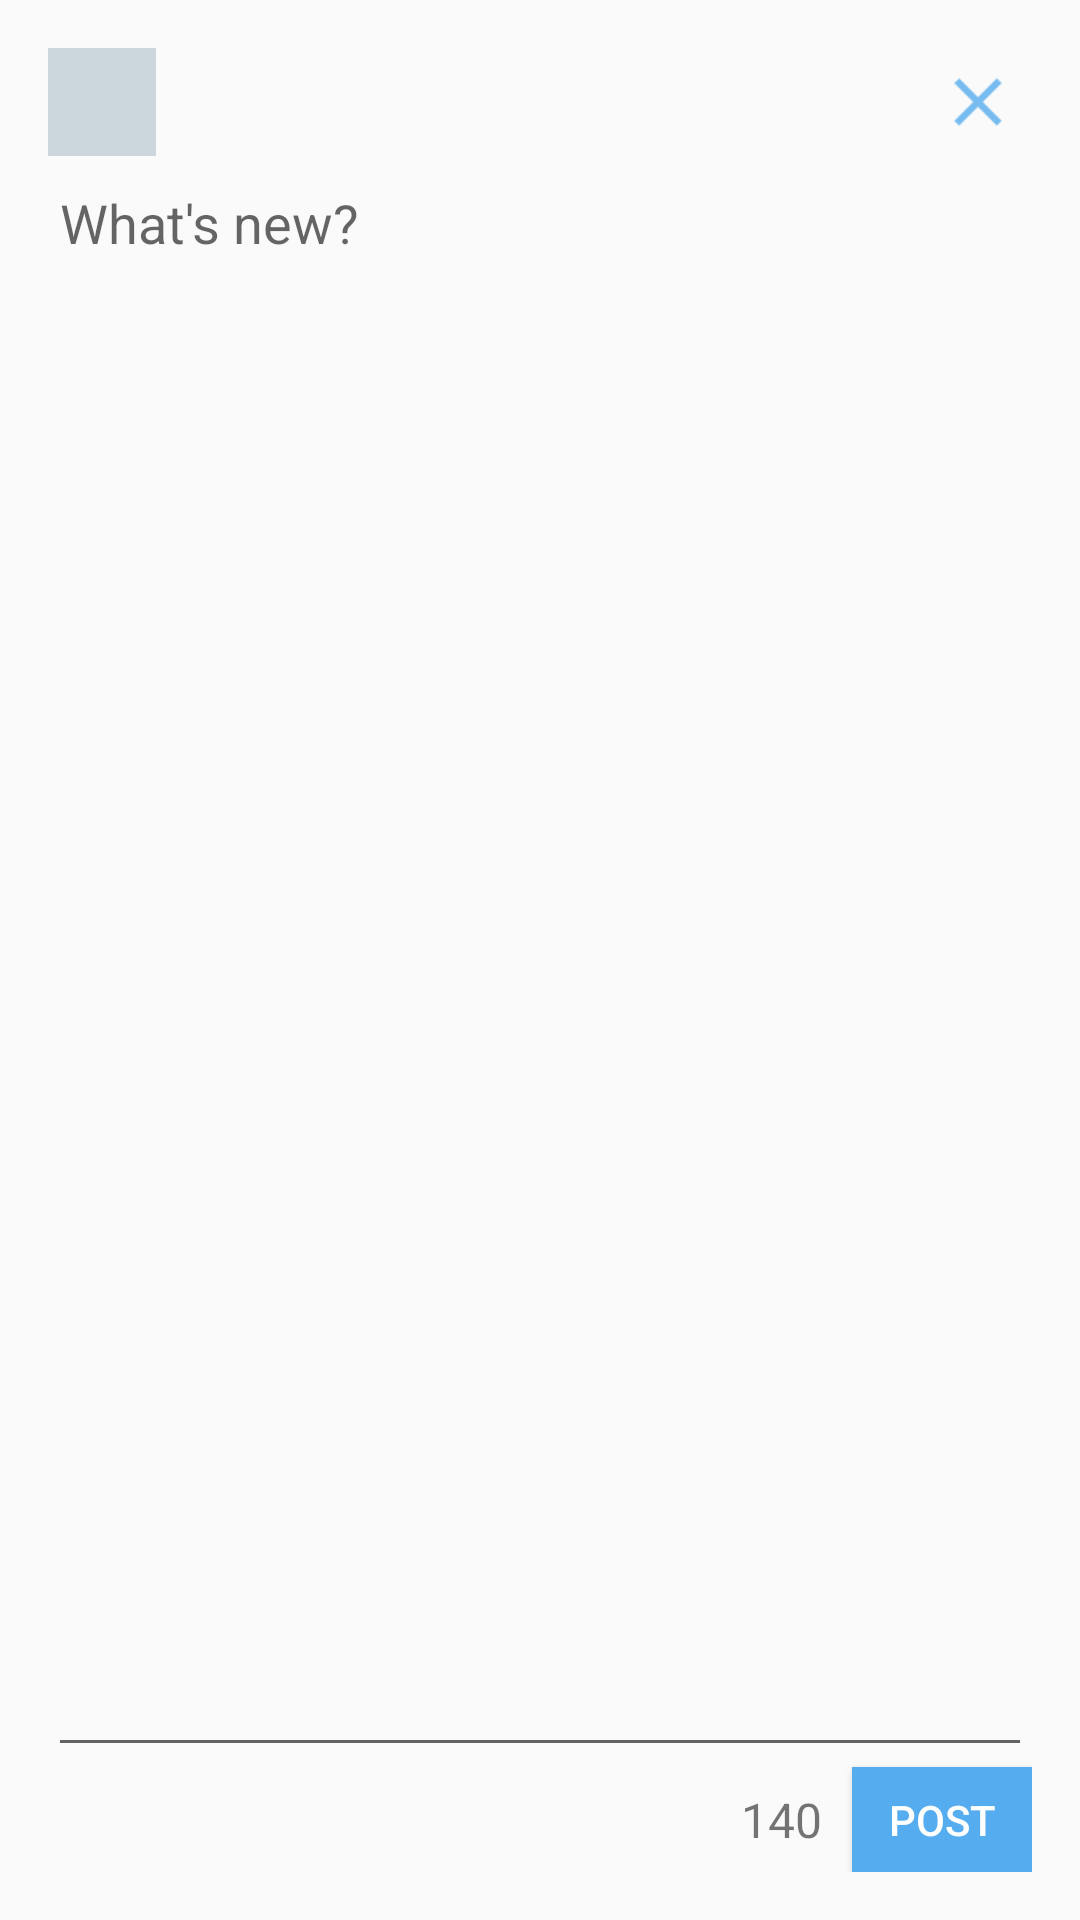

Icons on this 1080×1920 Android screen, each with its box as (x1, y1, x2, y2):
twitter close: (954, 78, 1002, 126)
